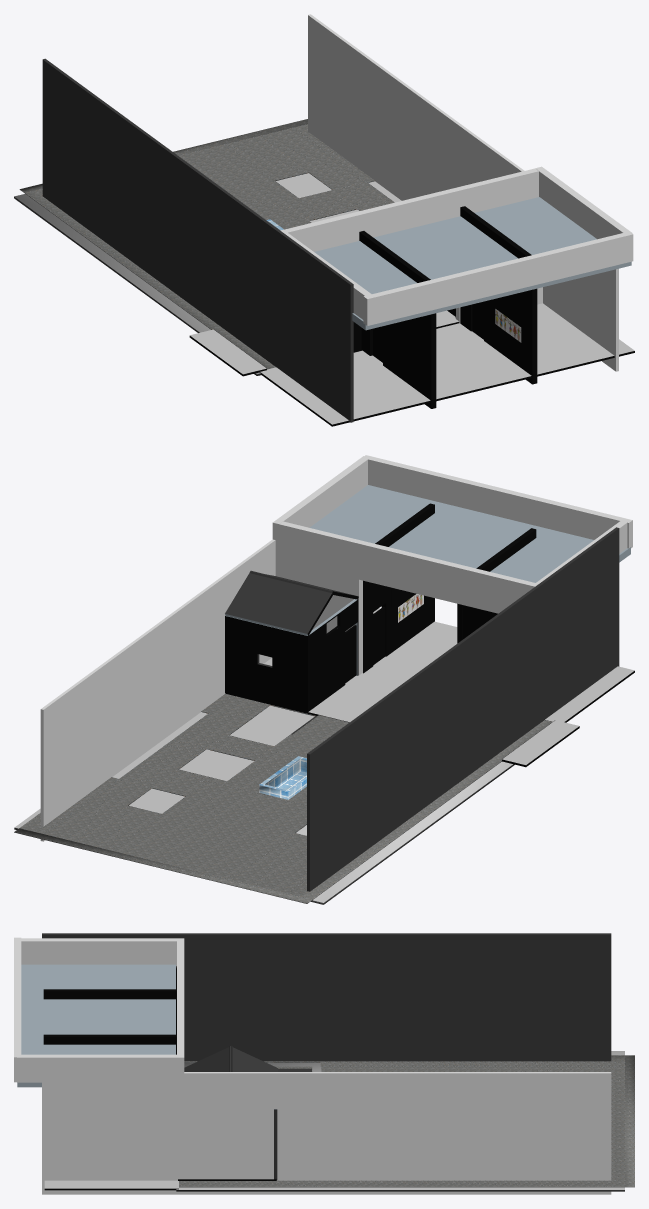
The model's file is Mid_Half_Export.FBX.
3 renders of one model, top to bottom at view 1: azimuth 30°, elevation 25°; view 2: azimuth 150°, elevation 25°; view 3: azimuth 270°, elevation 25°, orthographic. The views are drawn at different scales.
Visible parts, largest first — view 1: Mid_Half_Export; view 2: Mid_Half_Export; view 3: Mid_Half_Export.
Part boxes in pixels (x1,y1,x2,y2): Mid_Half_Export: [14, 14, 634, 426]; Mid_Half_Export: [14, 455, 634, 904]; Mid_Half_Export: [14, 933, 634, 1194].
Bounding box in the file's own units: 331 × 600 × 149.
